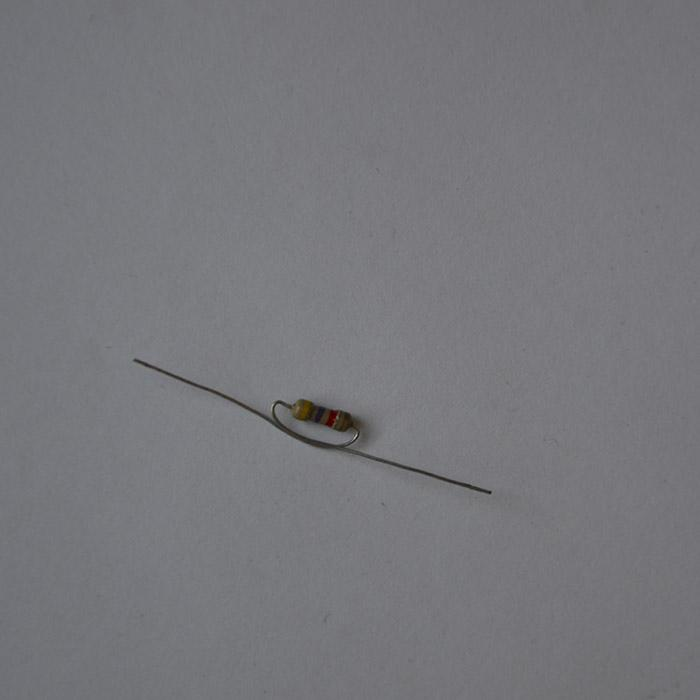resistor: (289, 398, 354, 432)
